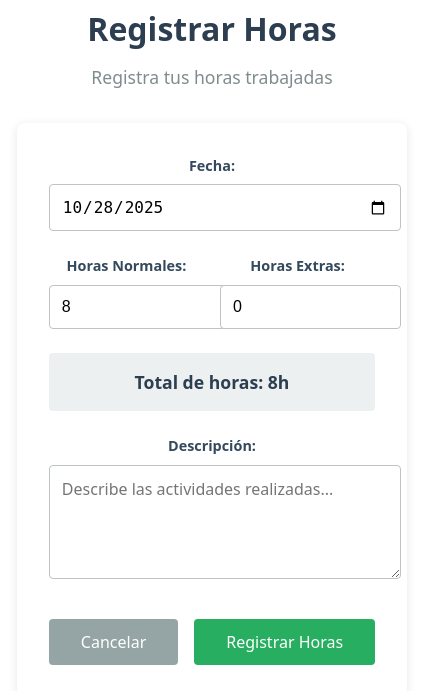
Test: HoursLog Component › debe registrar horas exitosamente y redirigir
Note: Simular entrada de usuario
Type "Trabajo en el proyecto X" into the text box labelled "Descripción:".
click(225, 522); type("Trabajo en el proyecto X")  # box x1=49 y1=465 x2=401 y2=579
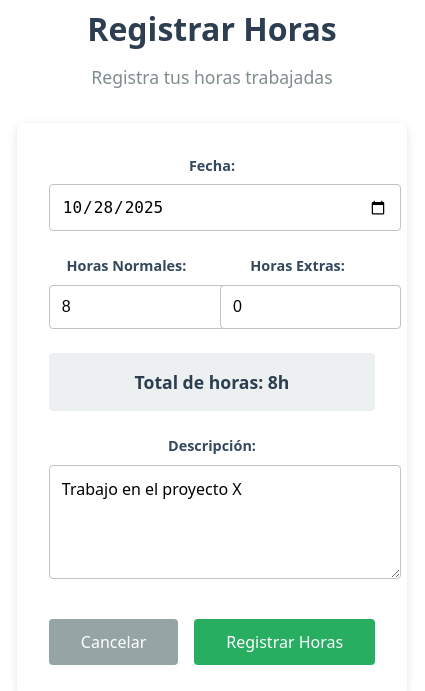
Click the button "Registrar Horas".
click(285, 642)  # box x1=194 y1=619 x2=375 y2=665
Wait 2000 ms
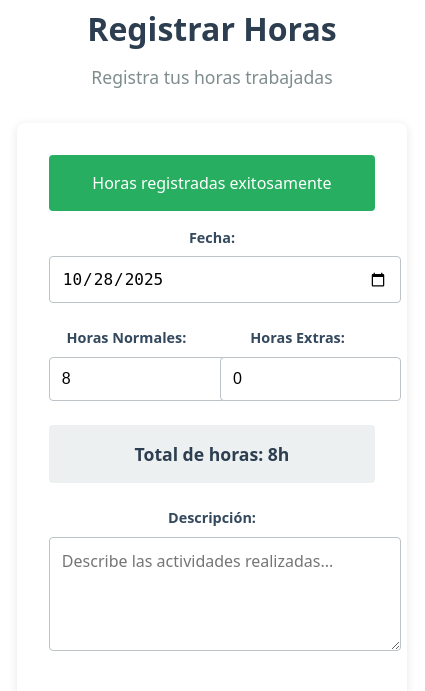
Check: the text "Horas registradas exitosamente" is shown, box x1=49 y1=155 x2=375 y2=211
